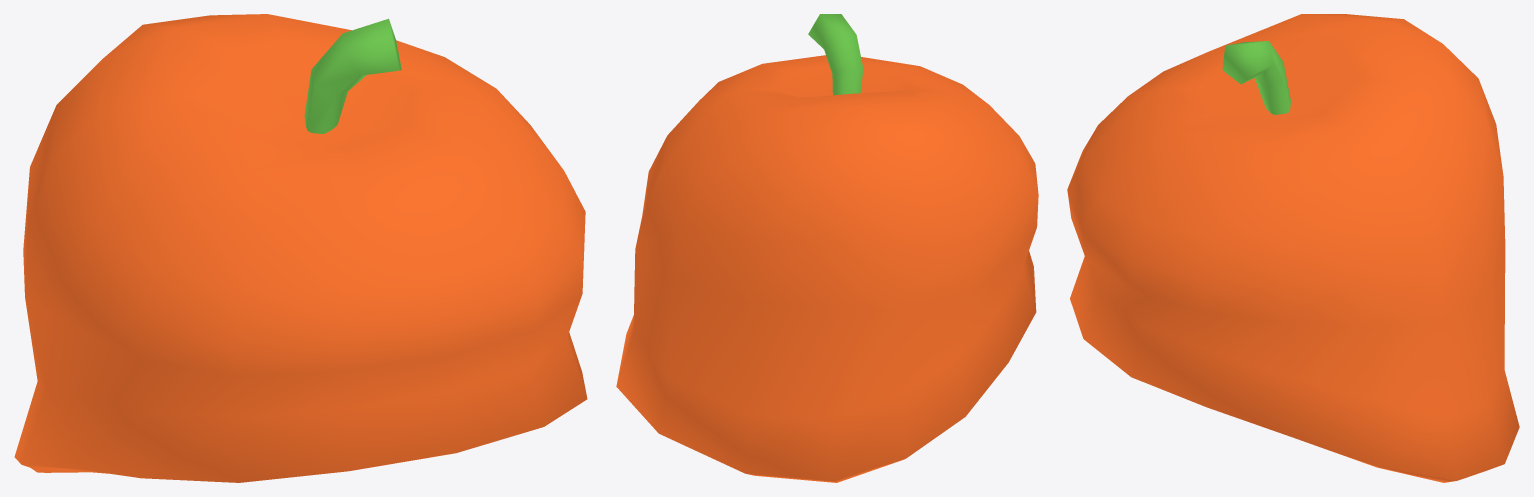
The model's file is accessory-orangebeanie.glb.
The picture shows the model from 3 angles, left to right: view 1: azimuth 30°, elevation 25°; view 2: azimuth 150°, elevation 25°; view 3: azimuth 270°, elevation 25°; orthographic projection. The views are drawn at different scales.
Parts seen in each view (by area): view 1: accessory__JA_m_Hat23__0; view 2: accessory__JA_m_Hat23__0; view 3: accessory__JA_m_Hat23__0.
Part boxes in pixels (bbox=[...]): accessory__JA_m_Hat23__0: bbox=[14, 14, 587, 482]; accessory__JA_m_Hat23__0: bbox=[616, 14, 1038, 482]; accessory__JA_m_Hat23__0: bbox=[1067, 14, 1519, 482].
Size of the model in its own units: 0.6455 by 0.6657 by 0.6542.
